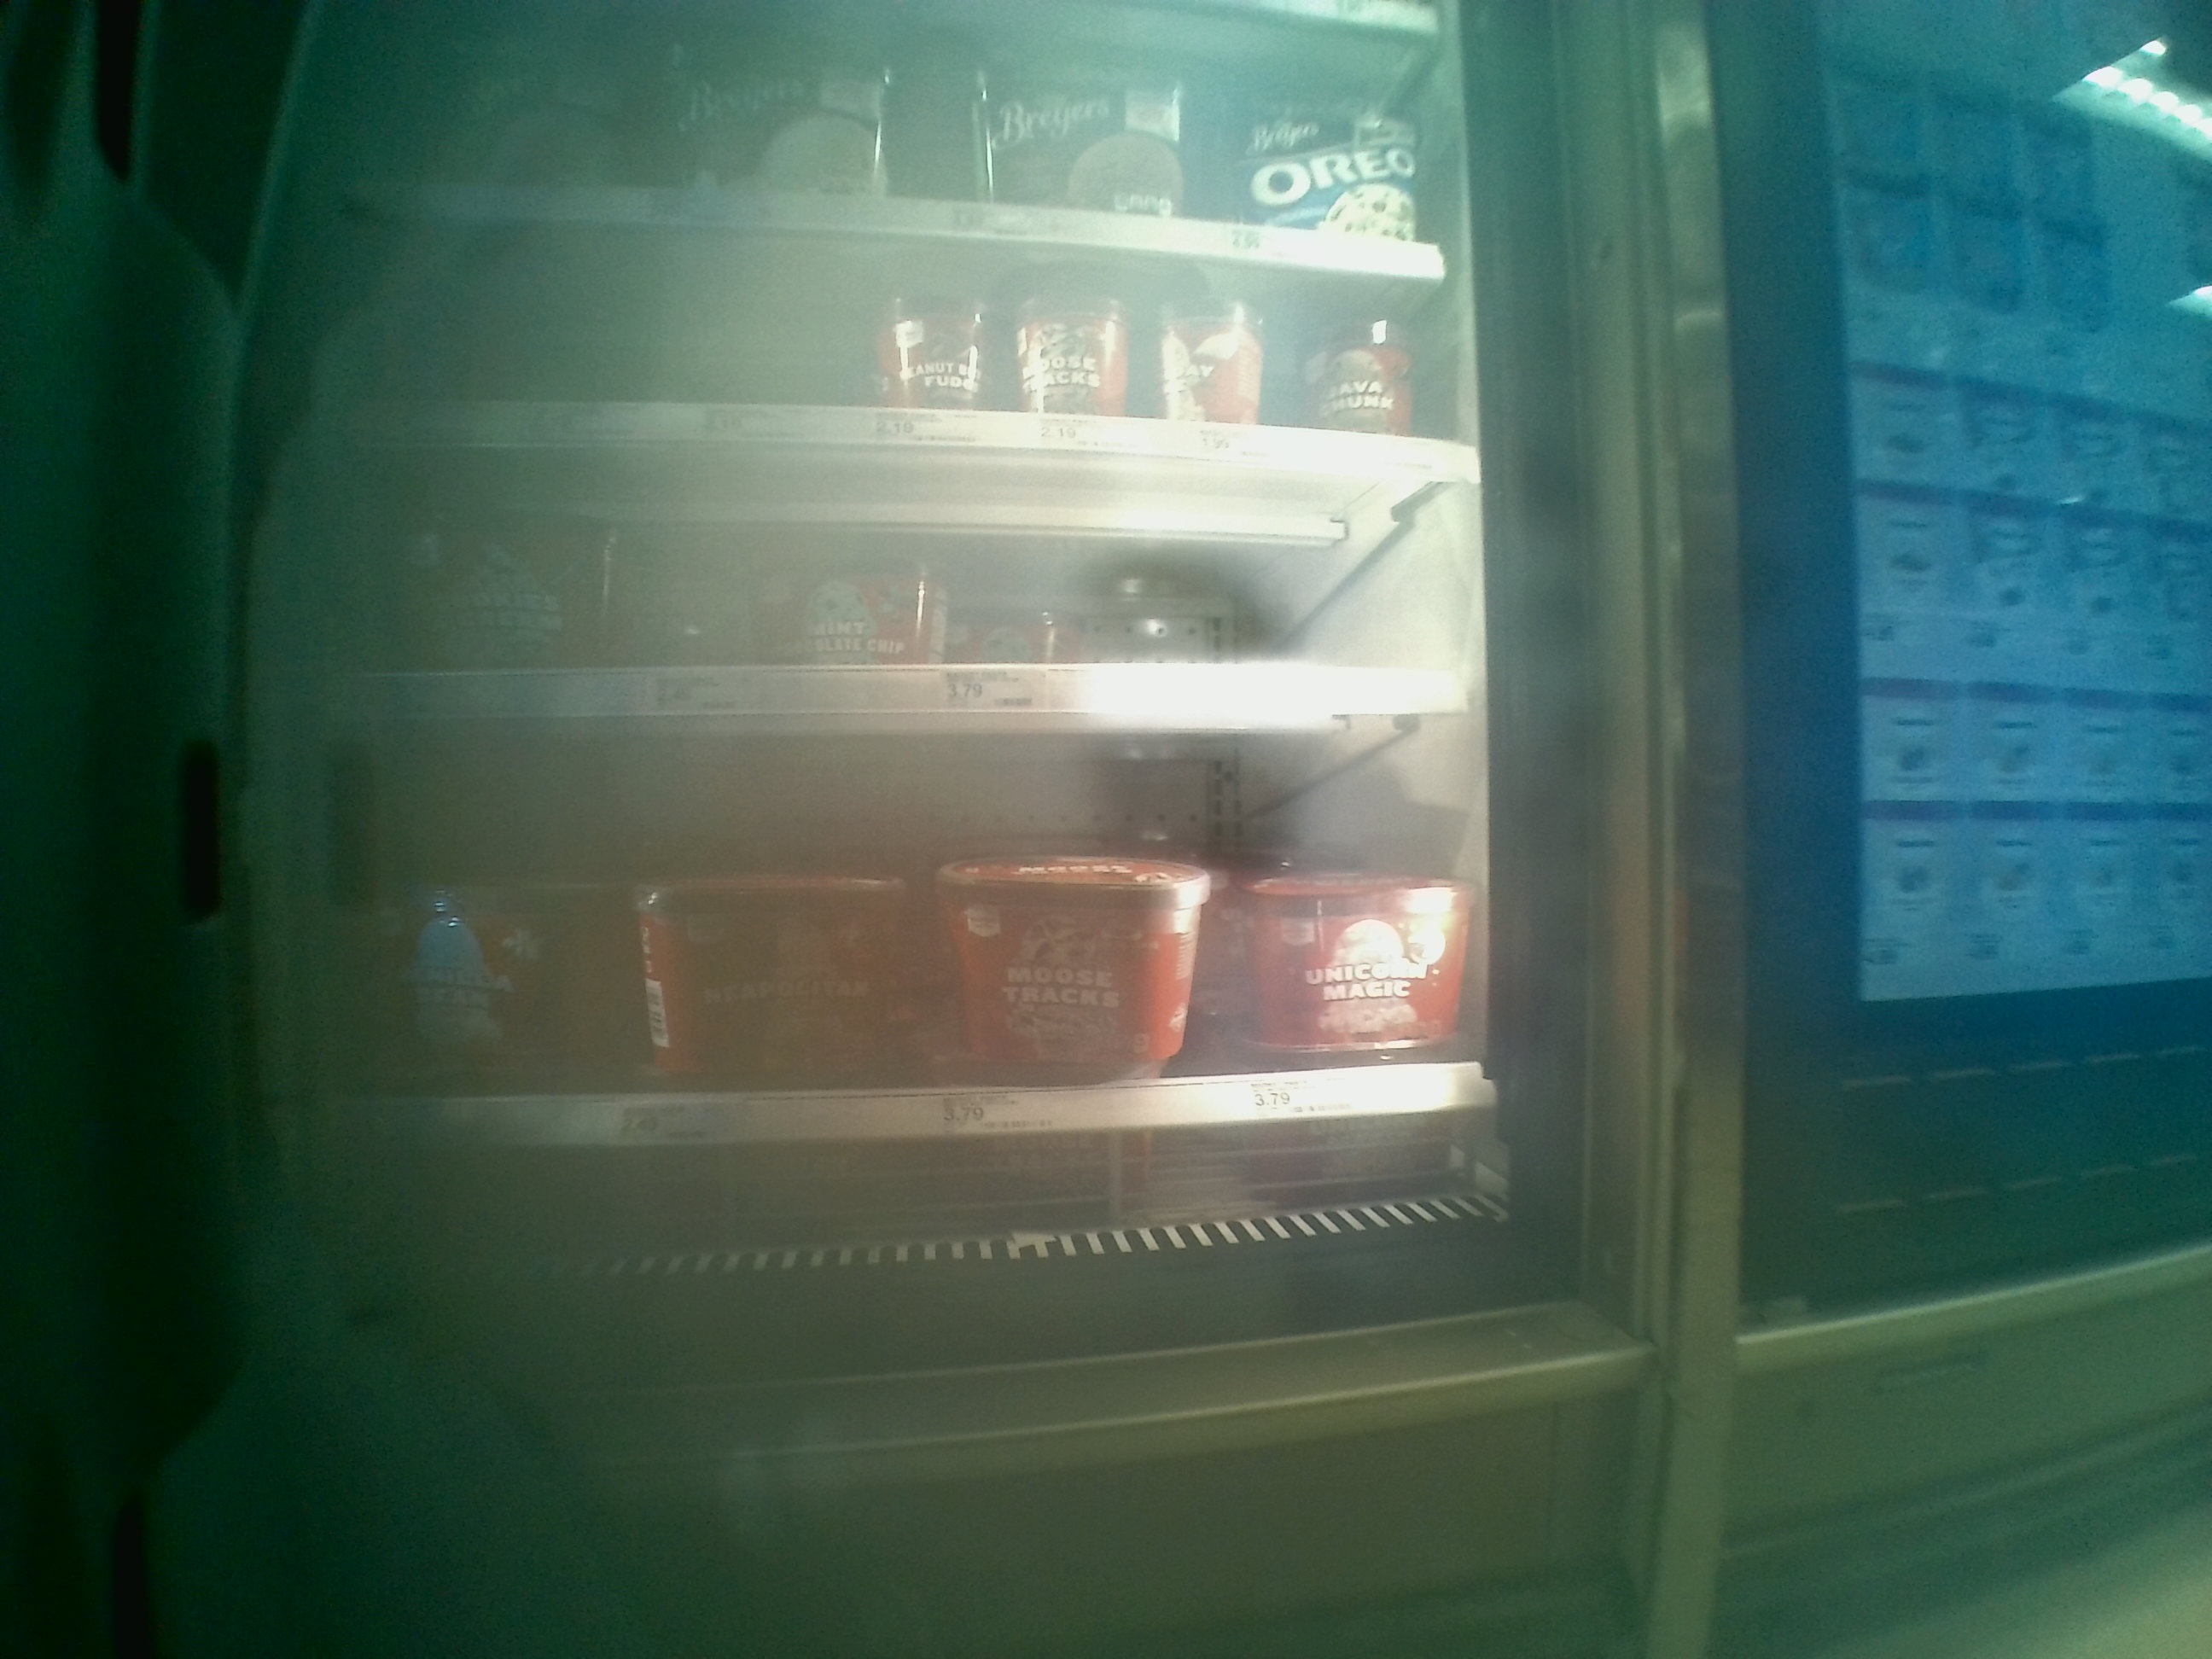shelf: (329, 721, 1505, 1218), (331, 446, 1486, 721)
